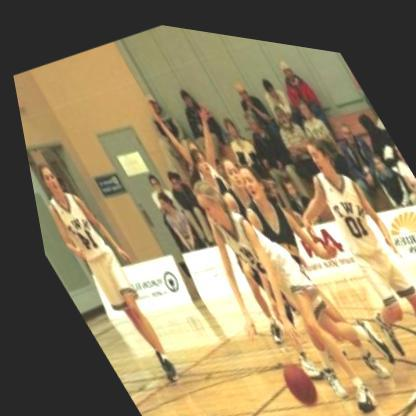basketball: (255, 340, 318, 409)
